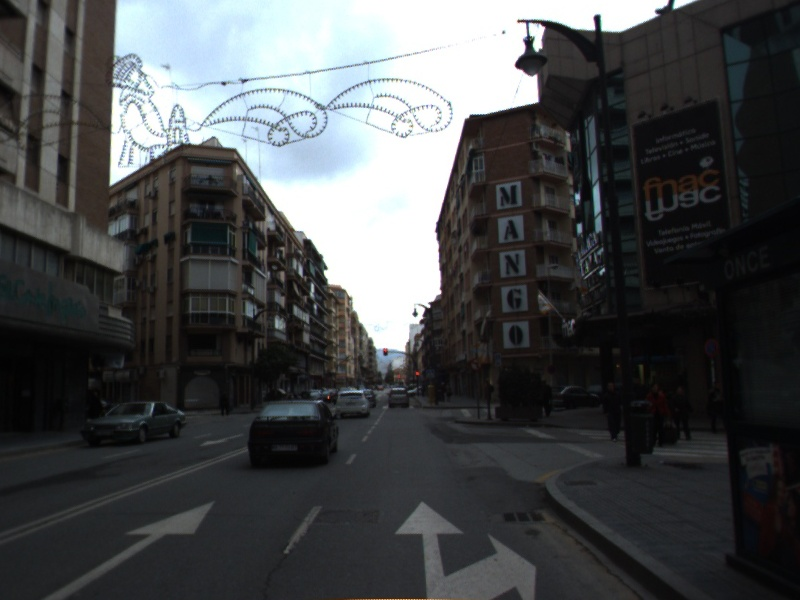STRAIGHT: (39, 499, 217, 600)
STRAIGHT_RIGHT: (393, 499, 538, 600)
